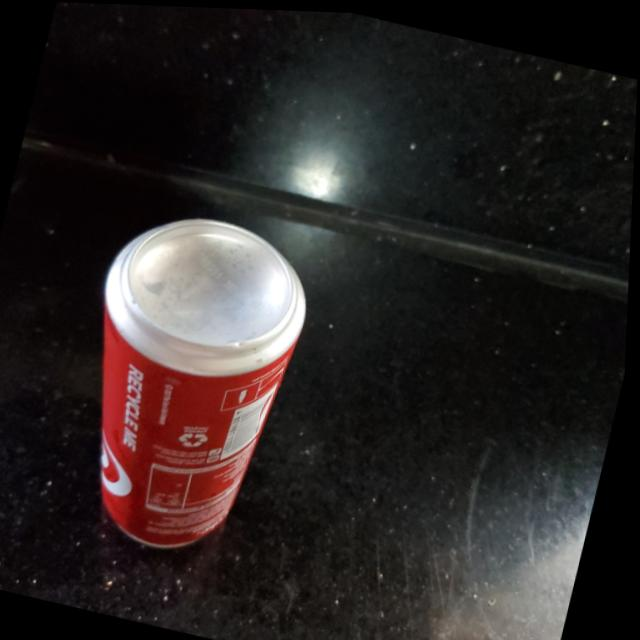coke: (54, 200, 331, 571)
